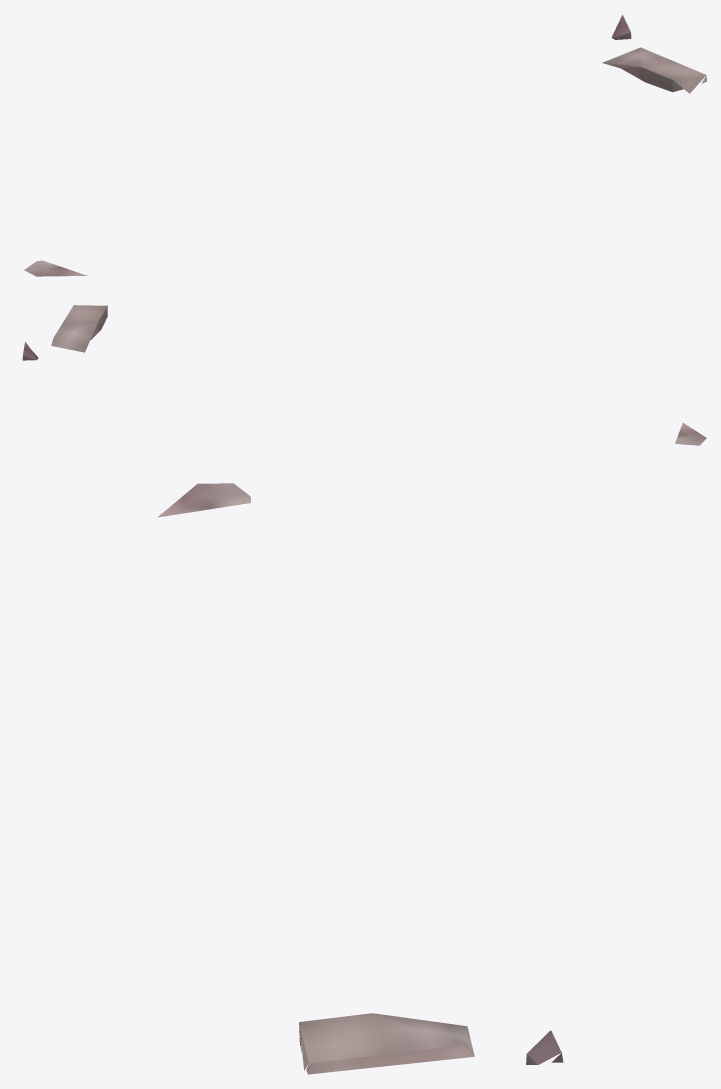
3 views of the same model, one above another, from view 1: azimuth 30°, elevation 25°; view 2: azimuth 150°, elevation 25°; view 3: azimuth 270°, elevation 25° (orthographic). The views are drawn at different scales.
Visible parts, largest first — view 1: Mesh_0; view 2: Mesh_0; view 3: Mesh_0.
Boxes of the visible parts, box(x1,y1,x2,y2) form: Mesh_0: box(24, 15, 706, 276); Mesh_0: box(22, 305, 706, 445); Mesh_0: box(157, 483, 563, 1074).
Bounding box in the file's own units: 283 × 9.97 × 82.
Materials: 1 (1 with a texture image).
